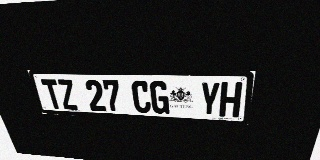2: (84, 80, 106, 111)
7: (101, 80, 123, 112)
C: (131, 80, 151, 113)
G: (149, 81, 169, 114)
H: (219, 82, 243, 117)
T: (40, 79, 64, 109)
Y: (199, 82, 221, 116)
Z: (56, 79, 79, 110)
